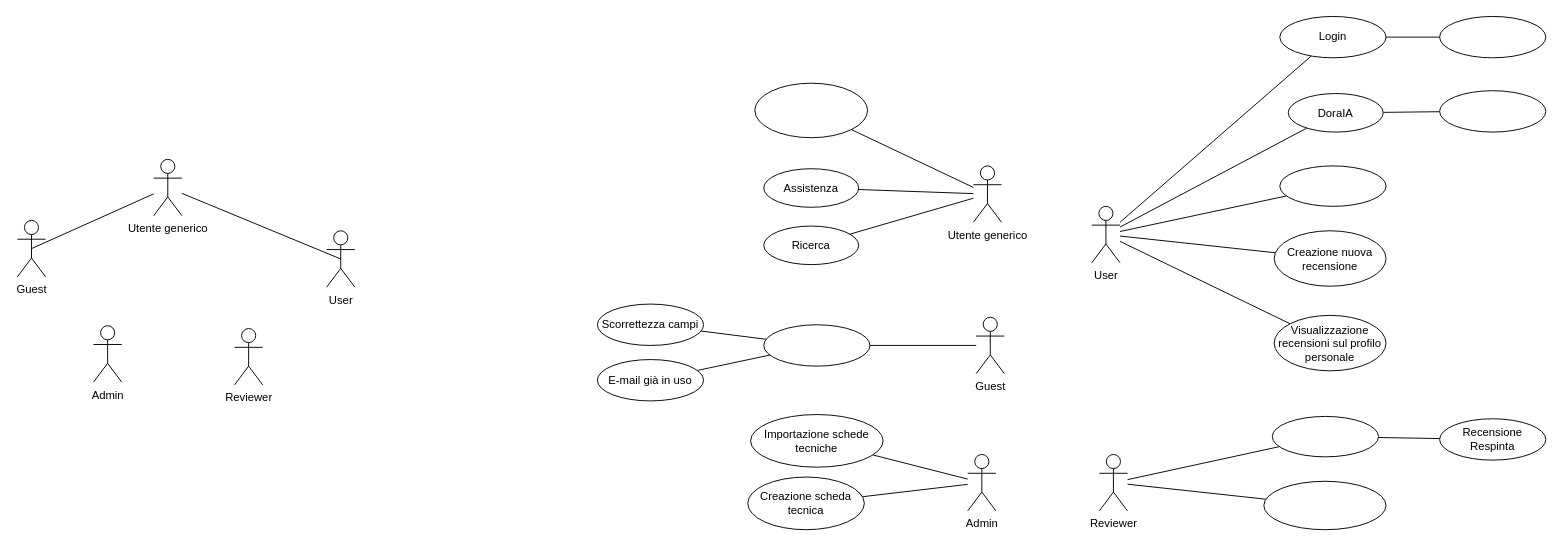
The diagram is 1562 pixels wide and 547 high, and some of its shapes have lost their labels. Here are the shapes that lost their labels. From the top down, the centre of each, then its label:
At point 1492,37: "Credenziali non valide".
At point 811,110: "Consultazione schede tecniche".
At point 1492,111: "Utente non loggato".
At point 1332,185: "Logout".
At point 816,345: "Registrazione".
At point 1325,436: "Revisione recensione".
At point 1324,505: "Aggiunta recensione professionale".
